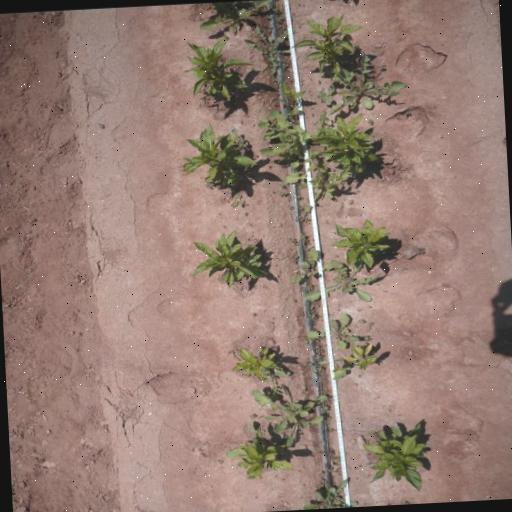plant: (358, 419, 432, 493), (187, 226, 271, 290), (185, 122, 258, 186), (182, 37, 253, 101), (291, 13, 364, 75), (317, 113, 380, 171), (232, 427, 294, 482), (330, 216, 396, 266), (332, 342, 382, 380), (230, 344, 278, 382)
weed: (326, 48, 407, 117), (250, 382, 328, 446), (284, 148, 359, 213), (256, 109, 328, 157), (303, 258, 381, 302), (242, 22, 291, 75), (196, 0, 273, 31), (304, 313, 360, 349), (301, 477, 357, 510), (289, 246, 321, 285), (261, 365, 294, 401), (274, 78, 307, 112), (314, 82, 336, 106), (231, 127, 251, 152), (276, 152, 304, 168), (228, 192, 250, 208), (298, 212, 312, 226), (285, 103, 300, 115), (228, 22, 240, 32), (272, 76, 282, 88), (298, 231, 310, 241), (280, 58, 290, 68), (302, 336, 313, 345), (202, 181, 216, 188), (302, 240, 310, 252), (308, 312, 319, 320), (276, 22, 286, 30), (362, 334, 372, 342), (314, 352, 324, 360), (332, 453, 342, 461), (320, 478, 330, 486), (302, 361, 314, 367), (292, 254, 299, 264), (358, 318, 368, 325), (319, 376, 329, 383), (272, 5, 280, 13), (276, 14, 284, 22), (264, 24, 272, 32), (306, 282, 314, 290), (297, 310, 305, 318), (326, 396, 334, 404), (419, 246, 427, 254), (315, 348, 325, 354), (298, 284, 305, 292), (322, 404, 330, 411), (326, 465, 334, 472), (327, 450, 336, 456), (366, 118, 374, 124), (278, 190, 286, 196), (324, 422, 332, 428), (404, 108, 411, 114), (288, 236, 295, 242), (319, 470, 326, 476), (294, 194, 302, 199), (378, 64, 386, 68), (316, 366, 324, 370), (263, 14, 270, 18), (318, 450, 325, 454), (292, 250, 298, 254), (315, 344, 321, 348), (250, 414, 256, 418), (279, 182, 284, 186), (288, 204, 293, 208), (310, 306, 314, 308)
